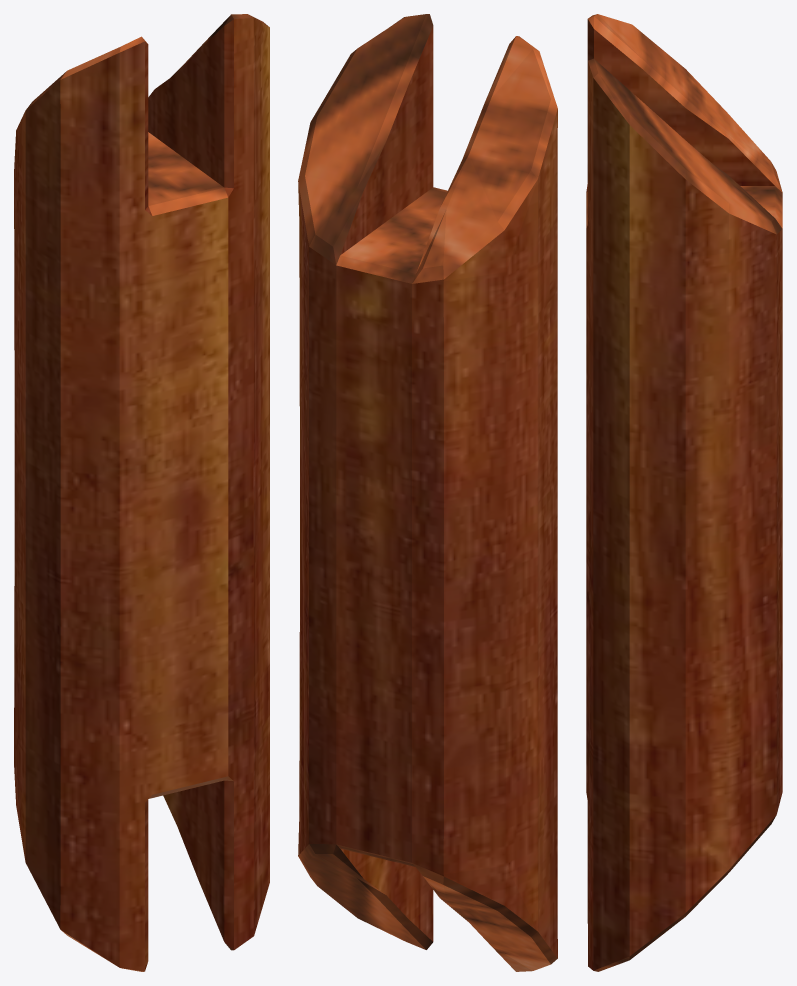
Rendered from SJ_J_shugan_1_011.FBX.
The picture shows the model from 3 angles, left to right: view 1: azimuth 30°, elevation 25°; view 2: azimuth 150°, elevation 25°; view 3: azimuth 270°, elevation 25°; orthographic projection. The views are drawn at different scales.
Visible parts, largest first — view 1: SJ_J_shugan_1_011; view 2: SJ_J_shugan_1_011; view 3: SJ_J_shugan_1_011.
Part boxes in pixels (bbox=[...]): SJ_J_shugan_1_011: bbox=[14, 14, 269, 971]; SJ_J_shugan_1_011: bbox=[298, 14, 557, 971]; SJ_J_shugan_1_011: bbox=[586, 14, 782, 971].
Bounding box in the file's own units: 2 × 7.86 × 1.54.
Materials: 2 (2 with a texture image).
